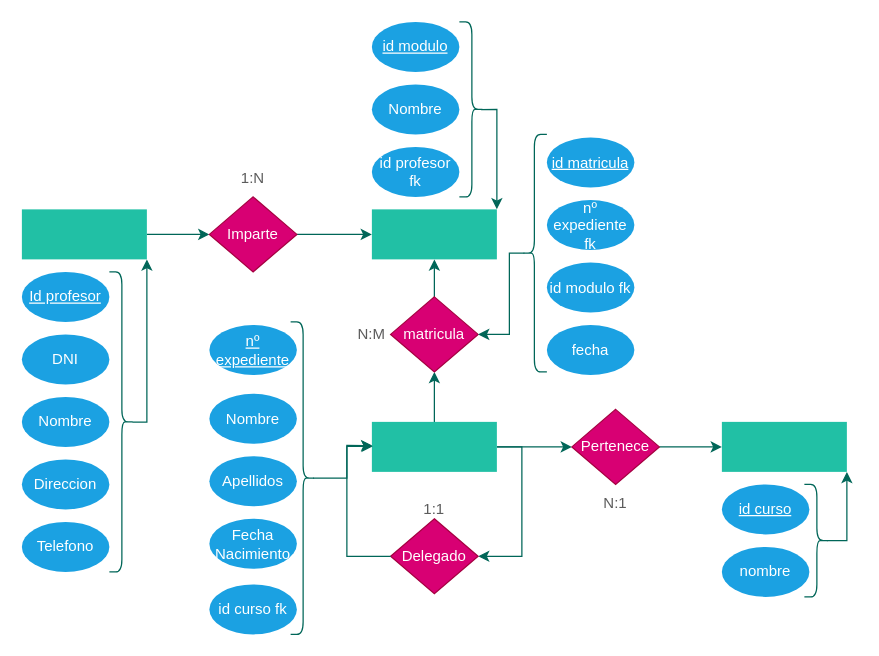
The diagram is 879 pixels wide and 656 high, and some of its shapes have lost their labels. The shapes that lost their labels are listed below. From the top down, each one's centre as x and y in pixels, then its label:
At point 83,234: "Profesores".
At point 433,234: "Modulo".
At point 433,446: "Alumnos".
At point 783,446: "Curso".
